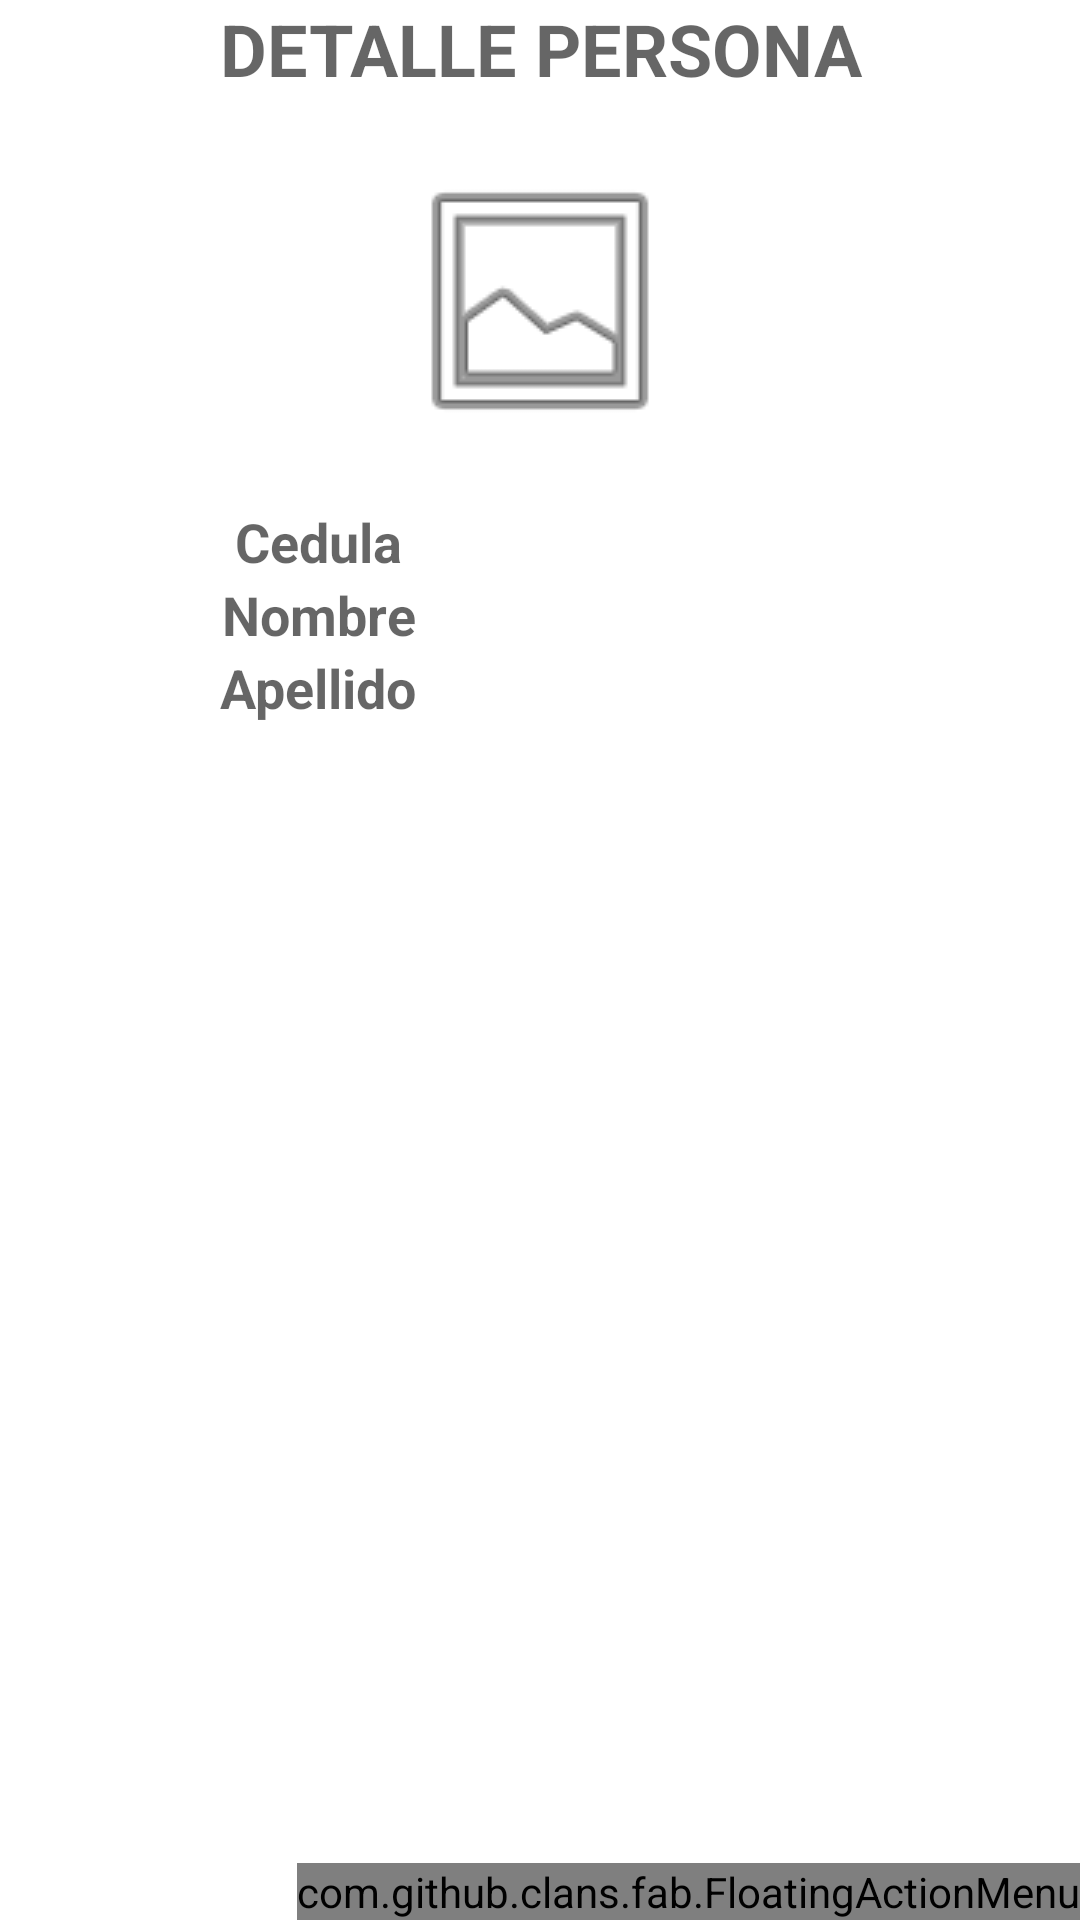

Where icons sit on this 1080 × 1920 app screen, as (x1, y1, x2, y2):
gallery: (431, 192, 649, 410)
